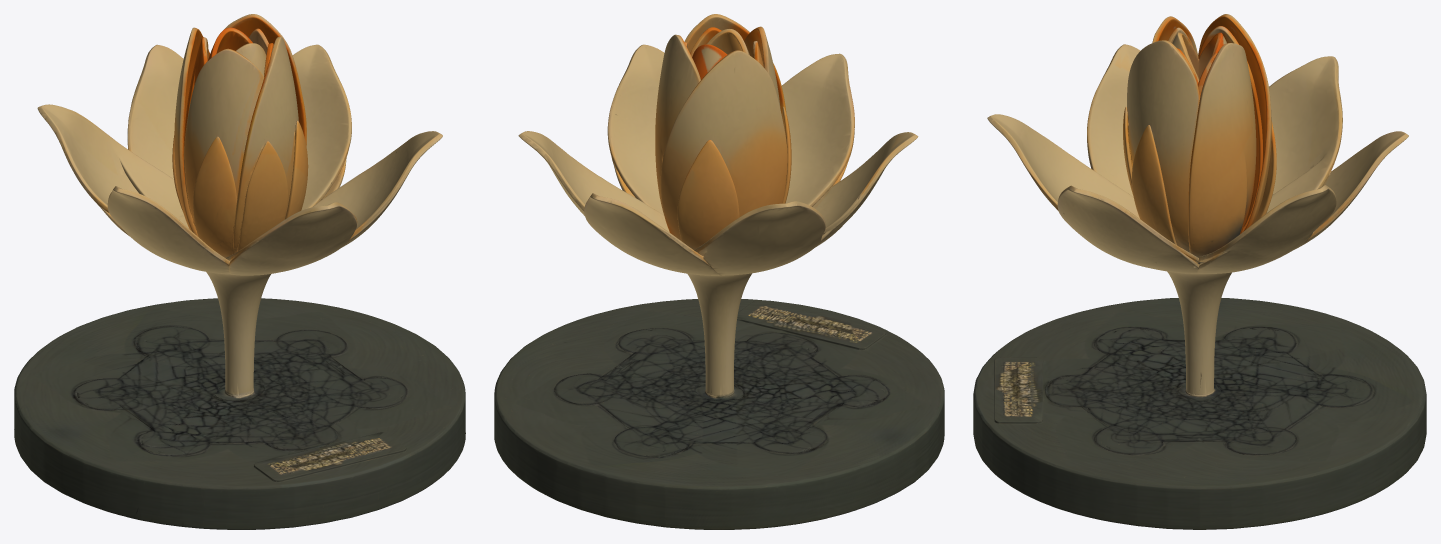
File: medium-optimized.glb
The picture shows the model from 3 angles, left to right: view 1: azimuth 30°, elevation 25°; view 2: azimuth 150°, elevation 25°; view 3: azimuth 270°, elevation 25°; orthographic projection.
Visible parts, largest first — view 1: material; view 2: material; view 3: material.
Boxes of the visible parts, <box> form: material: <box>14,14,465,529</box>; material: <box>494,14,944,529</box>; material: <box>973,14,1426,529</box>.
Bounding box in the file's own units: 0.8571 × 0.8448 × 0.8573.
Materials: 1 (1 with a texture image).
